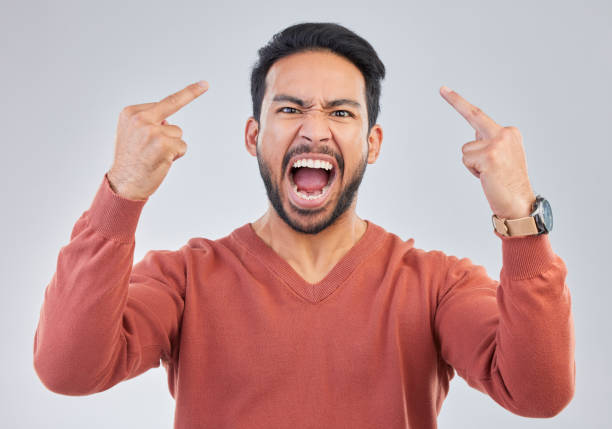insulting_gesture: (106, 75, 212, 194), (439, 82, 532, 192)
